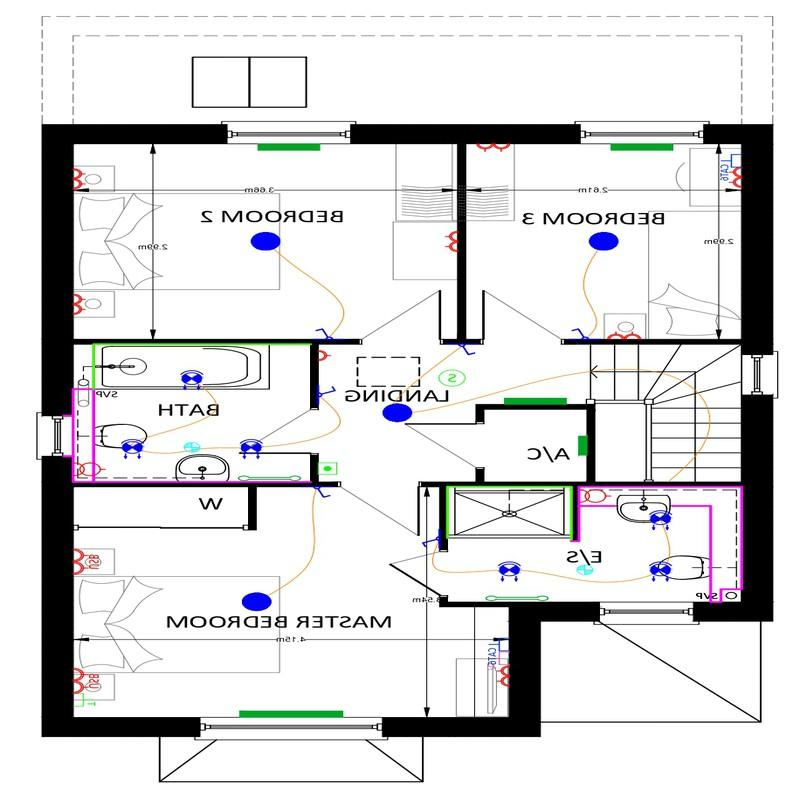Cat 6 Data Socket: (717, 152, 742, 166), (487, 639, 510, 651)
Ceiling Mounted Continuous Extract Fan With Boost Mode Activated By Light Switch: (565, 558, 603, 583), (174, 435, 211, 456)
Double Socket: (71, 283, 91, 320), (603, 326, 649, 342), (721, 167, 744, 196), (473, 139, 515, 154), (444, 221, 461, 258), (488, 664, 511, 691), (73, 164, 89, 195)
Full Height Tiling: (83, 340, 311, 393), (440, 481, 574, 543)
Light Switch: (414, 530, 441, 557), (450, 344, 485, 360), (306, 484, 336, 502), (565, 322, 595, 340), (319, 386, 344, 401), (316, 326, 339, 341)
Low Energy Downlighter: (173, 366, 215, 395), (643, 557, 681, 587), (117, 432, 149, 463), (646, 503, 679, 532), (496, 557, 529, 584), (238, 436, 268, 461)
Low Energy Pendant Light: (379, 398, 421, 431), (584, 223, 626, 252), (238, 586, 279, 615), (248, 227, 284, 254)
Mains Wired Smoke Detector: (433, 364, 471, 393)
Programmable Room Thermostat: (315, 458, 344, 479)
Radiator: (226, 705, 352, 719), (600, 138, 681, 154), (252, 140, 326, 156), (498, 393, 574, 405), (573, 432, 589, 463)
Shaver Socket: (70, 458, 107, 481), (578, 487, 613, 507)
Single Socket: (316, 346, 337, 367)
TV & Satellite Multisocket: (489, 651, 509, 666)
USB Double Socket: (73, 662, 105, 700), (72, 544, 103, 579)
